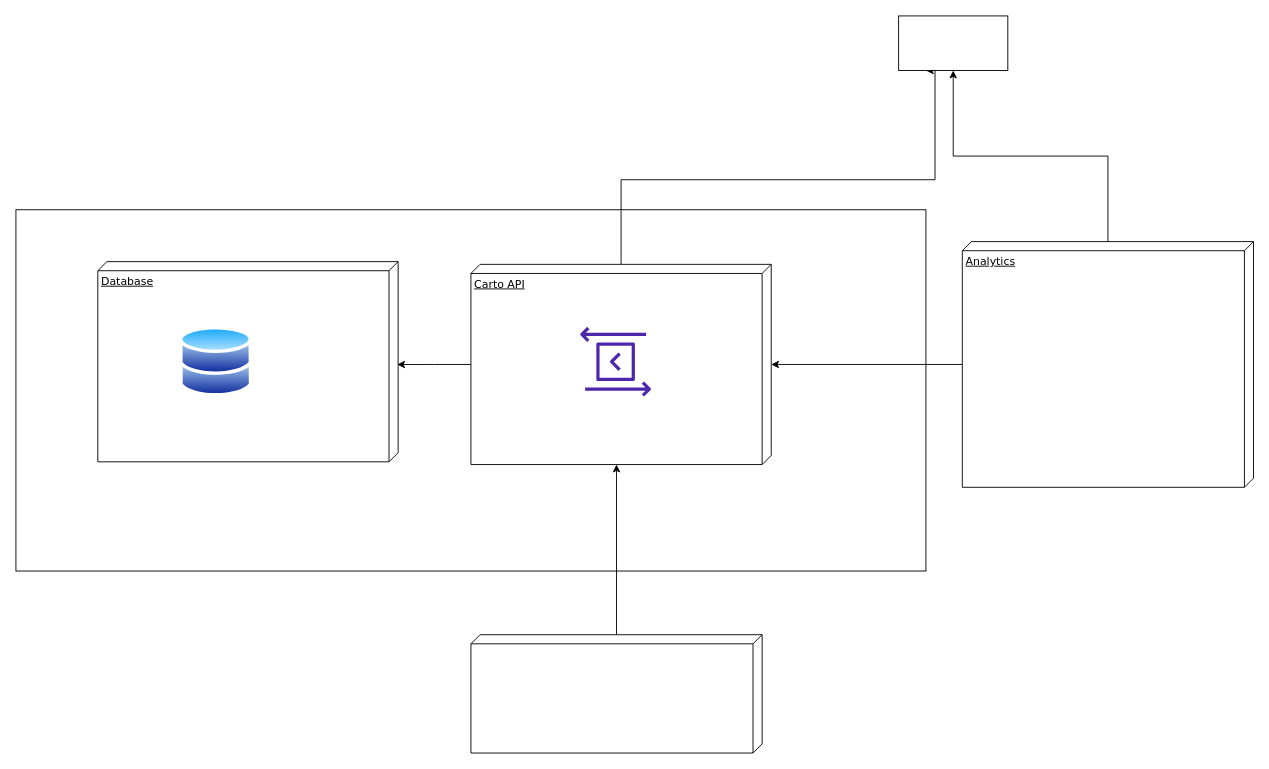
The diagram is 1269 pixels wide and 769 high, and some of its shapes have lost their labels. The shapes that lost their labels are listed below. From the top down, each one's centre as x and y in pixels, then its label:
the point at 953,43: Modal
the point at 616,693: Data Sync Service
